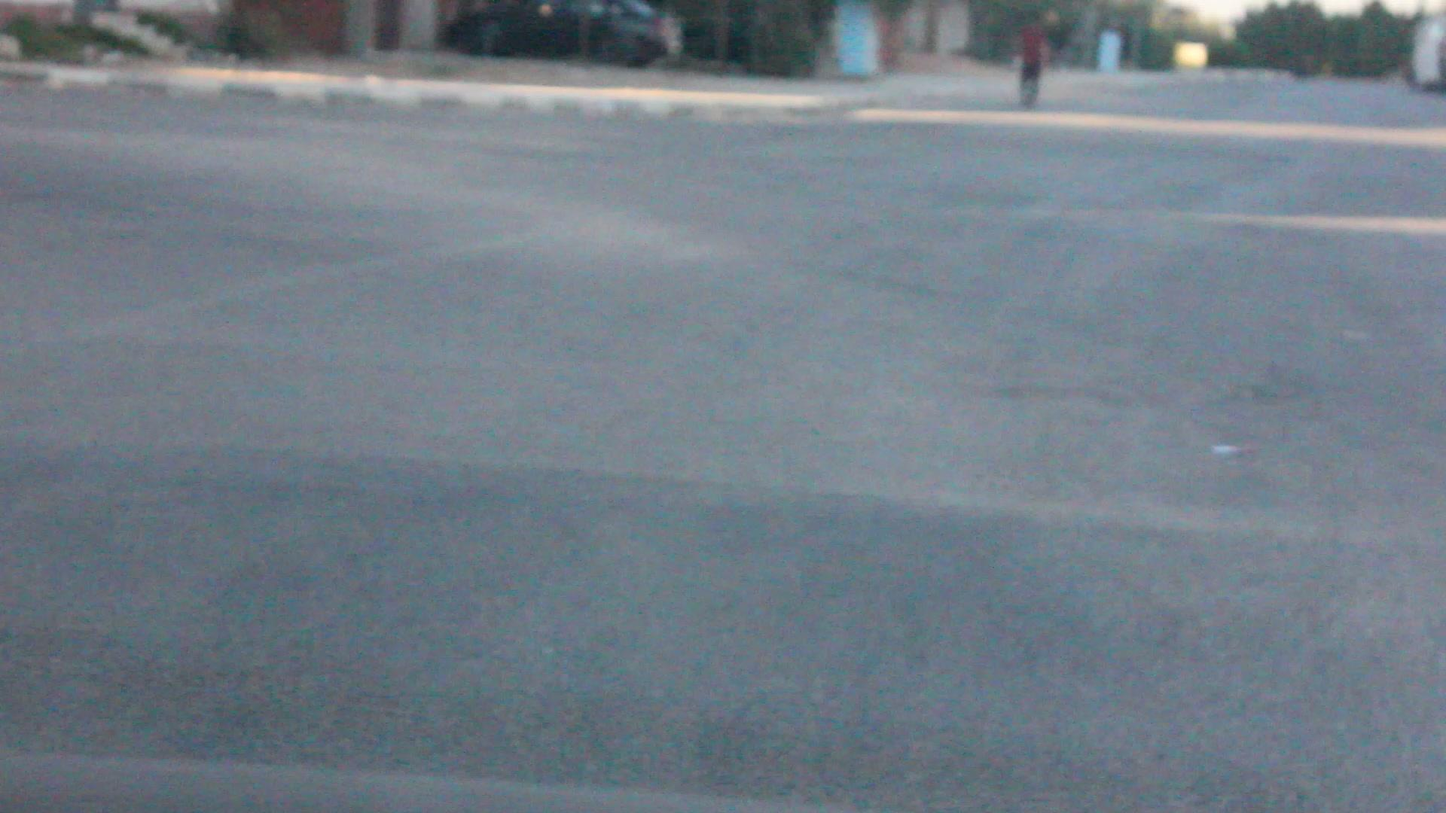Bump: (0, 386, 1446, 811)
